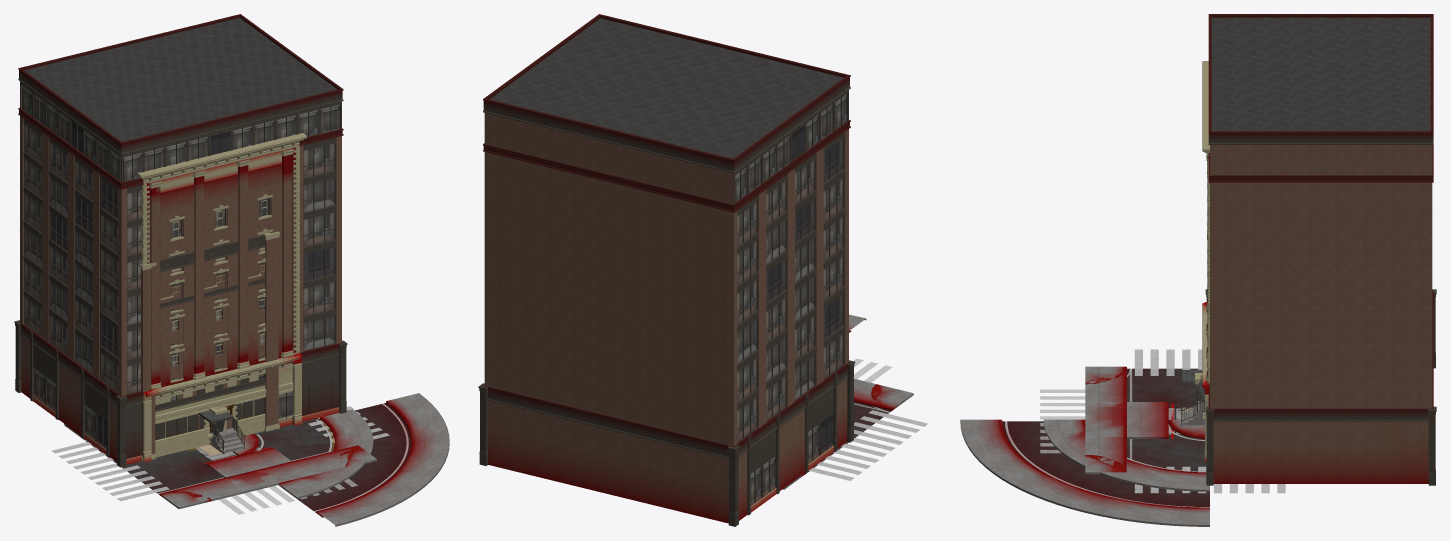
The model's file is city.glb.
3 renders of one model, left to right at view 1: azimuth 30°, elevation 25°; view 2: azimuth 150°, elevation 25°; view 3: azimuth 270°, elevation 25°, orthographic. The views are drawn at different scales.
Parts seen in each view (by area): view 1: Building_Large_2, Building_Medium_2.001, Building_Small_1, Street_4WayIntersection, Street_Curve_4LaneShort, Street_Asphalt_Curve_4Lane_Short, Street_TIntersection, Street_Curve_2Lane, Street_2Lane, Street_4Lane, Street_Asphalt_Curve_2Lane; view 2: Building_Large_2, Street_4WayIntersection, Street_TIntersection; view 3: Building_Large_2, Street_Curve_4LaneShort, Street_4WayIntersection, Street_Asphalt_Curve_4Lane_Short, Street_TIntersection, Street_Curve_2Lane, Building_Medium_2.001, Street_4Lane, Street_2Lane, Street_Asphalt_Curve_2Lane.
Boxes of the visible parts, x1,y1,x2,y2 form: Building_Large_2: (14,14,347,467); Building_Medium_2.001: (137,133,306,462); Building_Small_1: (140,231,279,461); Street_4WayIntersection: (52,406,389,514); Street_Curve_4LaneShort: (234,393,449,526); Street_Asphalt_Curve_4Lane_Short: (257,403,411,517); Street_TIntersection: (52,407,389,505); Street_Curve_2Lane: (232,409,373,498); Street_2Lane: (204,447,291,477); Street_4Lane: (188,438,310,491); Street_Asphalt_Curve_2Lane: (255,419,331,460); Building_Large_2: (478,14,855,526); Street_4WayIntersection: (782,356,927,489); Street_TIntersection: (809,378,926,480); Building_Large_2: (1205,14,1436,485); Street_Curve_4LaneShort: (960,419,1209,526); Street_4WayIntersection: (1040,349,1285,493); Street_Asphalt_Curve_4Lane_Short: (1002,421,1209,506); Street_TIntersection: (1085,350,1284,492); Street_Curve_2Lane: (1043,419,1209,491); Building_Medium_2.001: (1202,61,1209,461); Street_4Lane: (1085,402,1202,438); Street_2Lane: (1127,402,1195,438); Street_Asphalt_Curve_2Lane: (1127,439,1204,458).
Size of the model in its own units: 30.33 by 28.2 by 34.32.
Materials: 15 (13 with a texture image).
